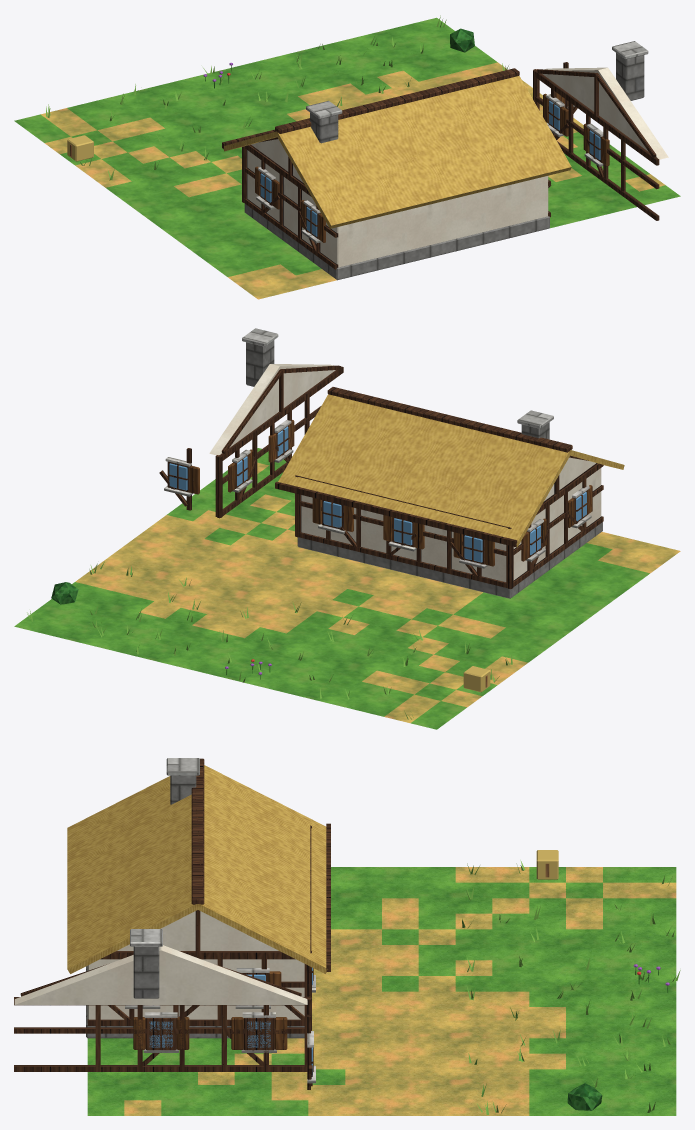
File: chunk_9_9.glb
3 views of the same model, one above another, from view 1: azimuth 30°, elevation 25°; view 2: azimuth 150°, elevation 25°; view 3: azimuth 270°, elevation 25° (orthographic). The views are drawn at different scales.
Visible parts, largest first — view 1: chunk_9_9; view 2: chunk_9_9; view 3: chunk_9_9.
Boxes of the visible parts, <box> form: chunk_9_9: <box>14,15,680,299</box>; chunk_9_9: <box>14,328,680,729</box>; chunk_9_9: <box>14,758,680,1115</box>.
Size of the model in its own units: 16.22 by 5.01 by 18.12.
Materials: 17 (12 with a texture image).
